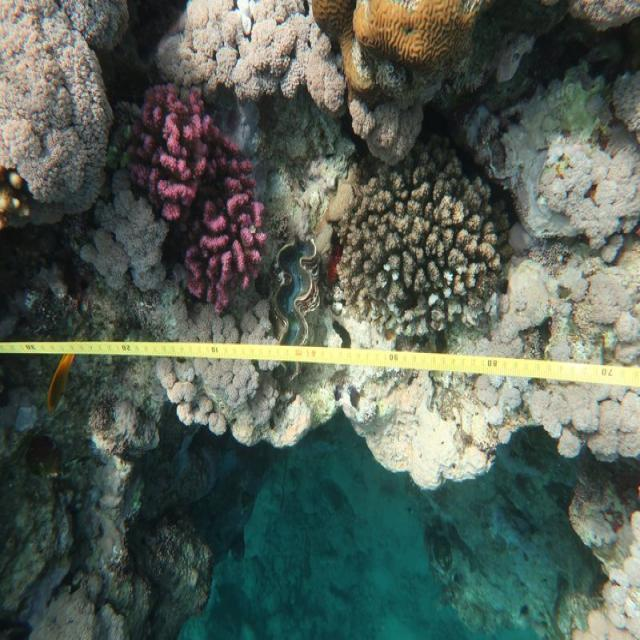Dead Coral: (333, 155, 491, 333)
Healthy Coral: (121, 84, 269, 314), (309, 0, 474, 95)
